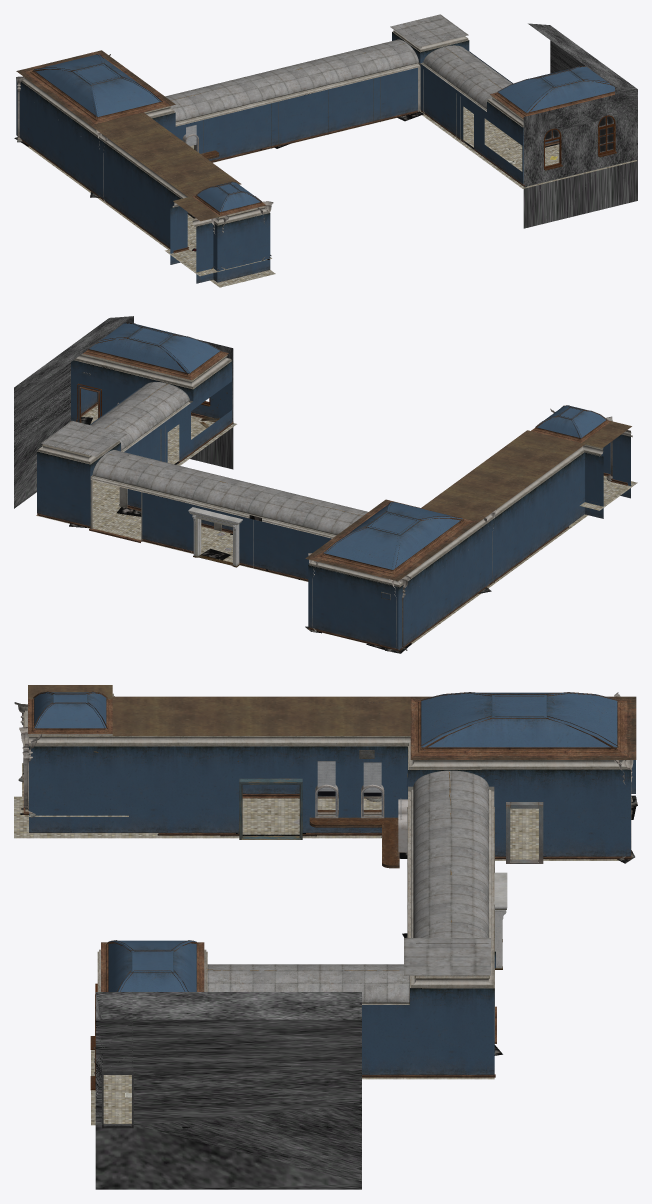
The model's file is st4_313_0_terrain_00ms.fbx.
3 renders of one model, top to bottom at view 1: azimuth 30°, elevation 25°; view 2: azimuth 150°, elevation 25°; view 3: azimuth 270°, elevation 25°, orthographic. The views are drawn at different scales.
Visible parts, largest first — view 1: LOD_1_Group_0_Sub_2__st2_police1fRightWall01, LOD_1_Group_0_Sub_24__OutWall, LOD_1_Group_0_Sub_6__st2_police1fRightCeiling02, LOD_1_Group_0_Sub_4__st2_police1fRightWall03, LOD_1_Group_0_Sub_5__st2_police1fRightCeiling01, LOD_1_Group_0_Sub_1__st2_police1fRightFloor01, LOD_1_Group_0_Sub_13__st2_police1fRightWindows01, LOD_1_Group_0_Sub_15__st2_police1fRightPillar01, LOD_1_Group_0_Sub_14__st2_police1fRightWindows01_Glass; view 2: LOD_1_Group_0_Sub_2__st2_police1fRightWall01, LOD_1_Group_0_Sub_4__st2_police1fRightWall03, LOD_1_Group_0_Sub_6__st2_police1fRightCeiling02, LOD_1_Group_0_Sub_24__OutWall, LOD_1_Group_0_Sub_5__st2_police1fRightCeiling01, LOD_1_Group_0_Sub_1__st2_police1fRightFloor01, LOD_1_Group_0_Sub_10__st2_police1fRightDoor12, LOD_1_Group_0_Sub_25__st2_police1fRightDirt02, LOD_1_Group_0_Sub_15__st2_police1fRightPillar01; view 3: LOD_1_Group_0_Sub_2__st2_police1fRightWall01, LOD_1_Group_0_Sub_24__OutWall, LOD_1_Group_0_Sub_6__st2_police1fRightCeiling02, LOD_1_Group_0_Sub_4__st2_police1fRightWall03, LOD_1_Group_0_Sub_5__st2_police1fRightCeiling01, LOD_1_Group_0_Sub_1__st2_police1fRightFloor01, LOD_1_Group_0_Sub_12__st2_police1fRightTable01, LOD_1_Group_0_Sub_28__st2_Police1fRightShutter01, LOD_1_Group_0_Sub_26__st2_police1fRightWindows02, LOD_1_Group_0_Sub_15__st2_police1fRightPillar01, LOD_1_Group_0_Sub_7__st2_police1fRightDoor01, LOD_1_Group_0_Sub_10__st2_police1fRightDoor12 (+1 smaller).
Part boxes in pixels (x1=…): LOD_1_Group_0_Sub_2__st2_police1fRightWall01: x1=16, y1=32, x2=614, y2=283; LOD_1_Group_0_Sub_24__OutWall: x1=523, y1=23, x2=637, y2=228; LOD_1_Group_0_Sub_6__st2_police1fRightCeiling02: x1=165, y1=14, x2=512, y2=121; LOD_1_Group_0_Sub_4__st2_police1fRightWall03: x1=16, y1=30, x2=614, y2=269; LOD_1_Group_0_Sub_5__st2_police1fRightCeiling01: x1=91, y1=112, x2=241, y2=221; LOD_1_Group_0_Sub_1__st2_police1fRightFloor01: x1=25, y1=106, x2=636, y2=287; LOD_1_Group_0_Sub_13__st2_police1fRightWindows01: x1=544, y1=115, x2=616, y2=170; LOD_1_Group_0_Sub_15__st2_police1fRightPillar01: x1=16, y1=54, x2=273, y2=269; LOD_1_Group_0_Sub_14__st2_police1fRightWindows01_Glass: x1=545, y1=116, x2=613, y2=152; LOD_1_Group_0_Sub_2__st2_police1fRightWall01: x1=37, y1=322, x2=630, y2=650; LOD_1_Group_0_Sub_4__st2_police1fRightWall03: x1=37, y1=322, x2=632, y2=651; LOD_1_Group_0_Sub_6__st2_police1fRightCeiling02: x1=41, y1=382, x2=367, y2=534; LOD_1_Group_0_Sub_24__OutWall: x1=14, y1=316, x2=233, y2=508; LOD_1_Group_0_Sub_5__st2_police1fRightCeiling01: x1=421, y1=421, x2=631, y2=521; LOD_1_Group_0_Sub_1__st2_police1fRightFloor01: x1=36, y1=405, x2=637, y2=646; LOD_1_Group_0_Sub_10__st2_police1fRightDoor12: x1=188, y1=507, x2=242, y2=567; LOD_1_Group_0_Sub_25__st2_police1fRightDirt02: x1=69, y1=366, x2=491, y2=653; LOD_1_Group_0_Sub_15__st2_police1fRightPillar01: x1=308, y1=408, x2=612, y2=650; LOD_1_Group_0_Sub_2__st2_police1fRightWall01: x1=29, y1=692, x2=635, y2=1074; LOD_1_Group_0_Sub_24__OutWall: x1=95, y1=992, x2=361, y2=1189; LOD_1_Group_0_Sub_6__st2_police1fRightCeiling02: x1=207, y1=770, x2=490, y2=1002; LOD_1_Group_0_Sub_4__st2_police1fRightWall03: x1=23, y1=691, x2=636, y2=1077; LOD_1_Group_0_Sub_5__st2_police1fRightCeiling01: x1=28, y1=685, x2=410, y2=735; LOD_1_Group_0_Sub_1__st2_police1fRightFloor01: x1=14, y1=763, x2=619, y2=1125; LOD_1_Group_0_Sub_12__st2_police1fRightTable01: x1=309, y1=810, x2=399, y2=868; LOD_1_Group_0_Sub_28__st2_Police1fRightShutter01: x1=316, y1=761, x2=401, y2=819; LOD_1_Group_0_Sub_26__st2_police1fRightWindows02: x1=315, y1=784, x2=407, y2=852; LOD_1_Group_0_Sub_15__st2_police1fRightPillar01: x1=14, y1=692, x2=634, y2=861; LOD_1_Group_0_Sub_7__st2_police1fRightDoor01: x1=239, y1=778, x2=302, y2=839; LOD_1_Group_0_Sub_10__st2_police1fRightDoor12: x1=494, y1=872, x2=507, y2=969.
Bounding box in the file's own units: 28.6 × 7.2 × 21.85.
